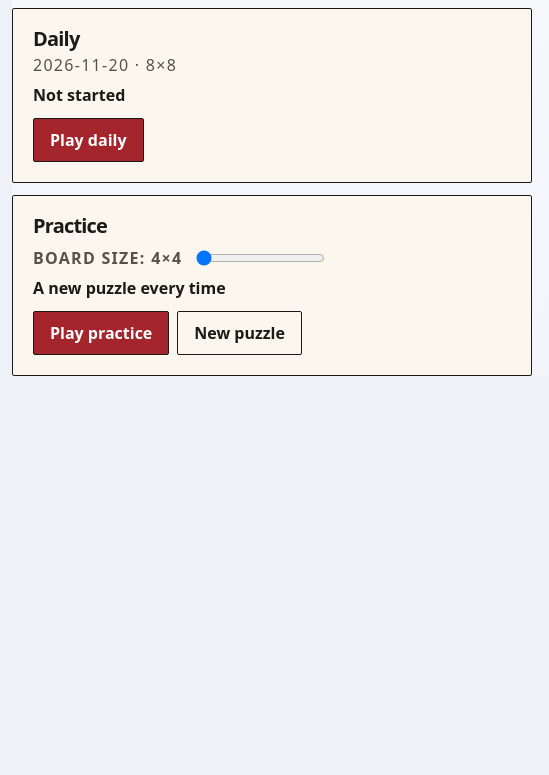
Test: playing phase starts from the choosing card
Click the button "Play practice" at (101, 333), box [33, 311, 169, 355]
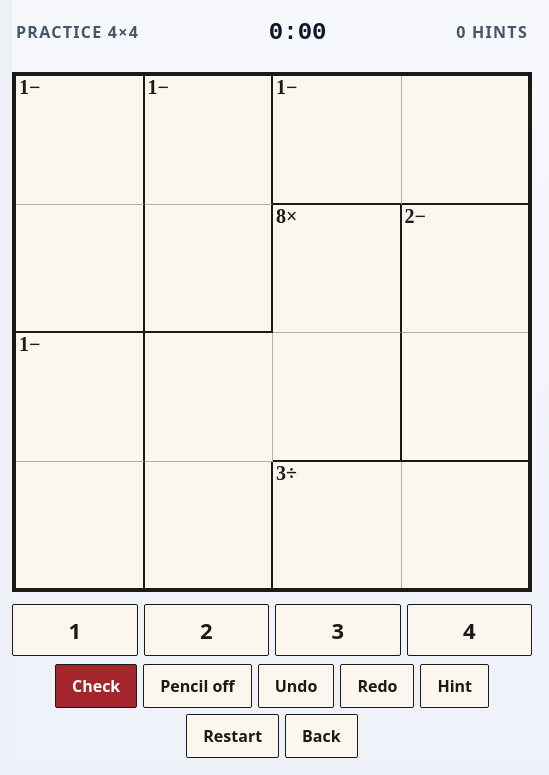
Expected: the number of cells is 16
Expected: the text "0:00" is shown, [269, 18, 326, 46]
